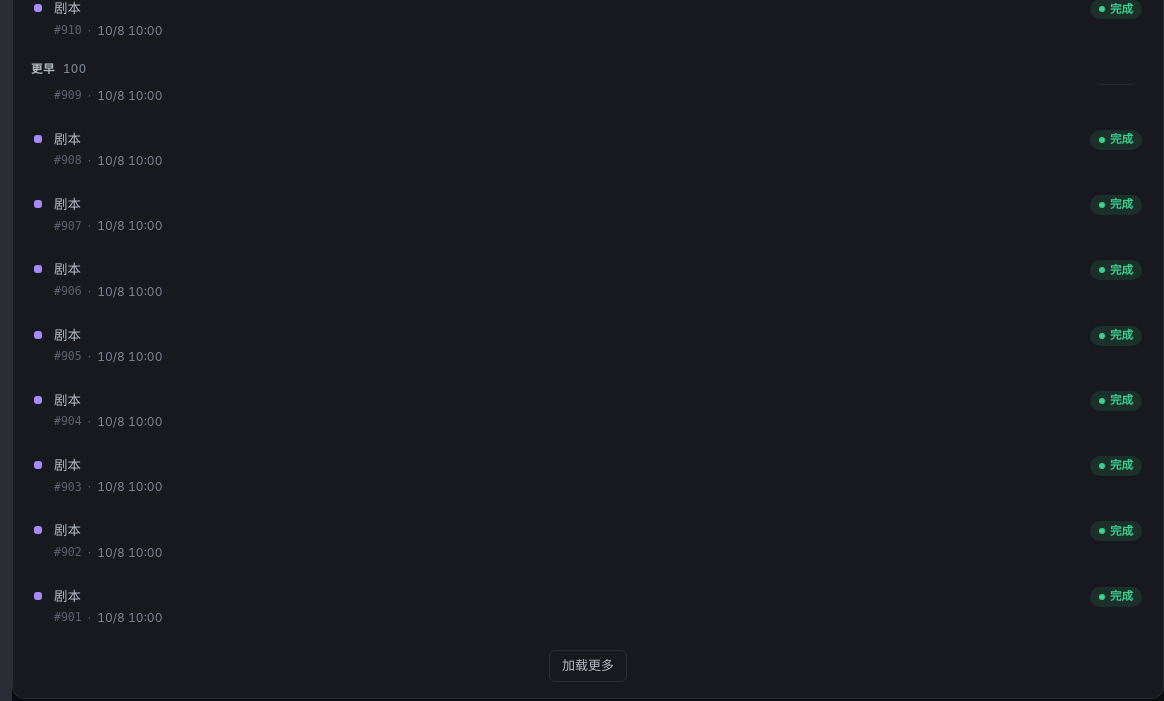
Scenario: JobsPage · 列表与筛选 › 加载更多：每次多拿 100 条
(page scrolled)
What coordinates should you click on to do the following:
click the button "加载更多"
I would click on:
 (588, 666)
Its box is [549,650,627,682].
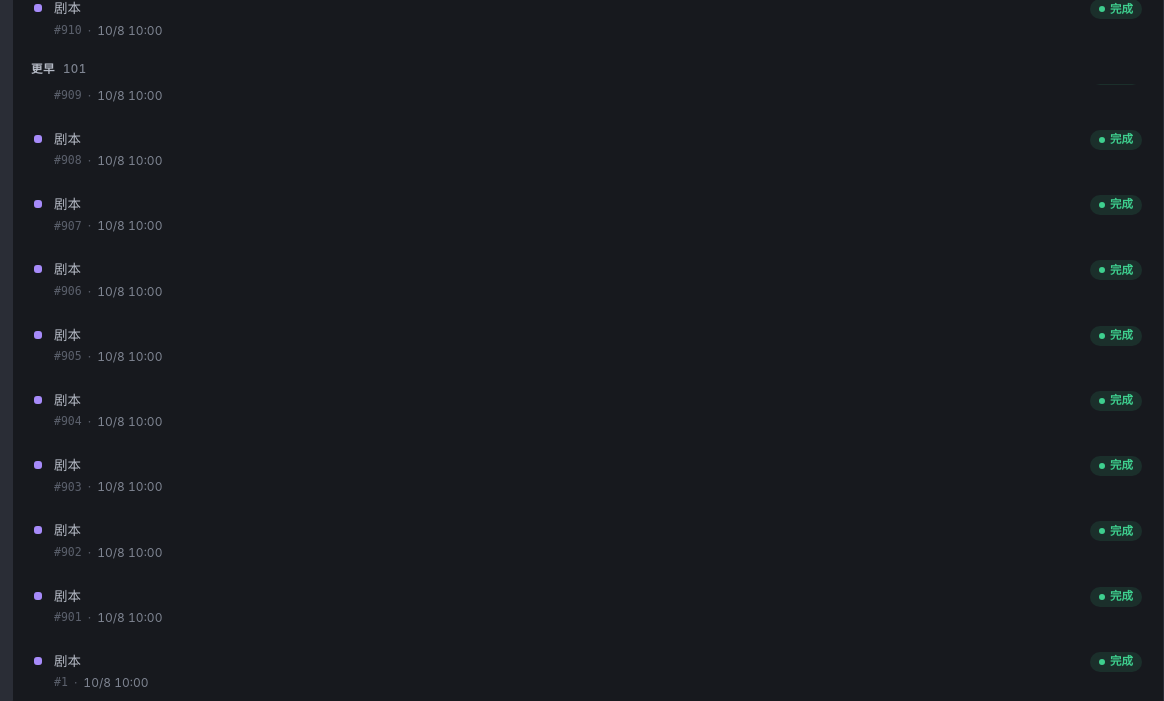
Expected: the button "加载更多" is gone
